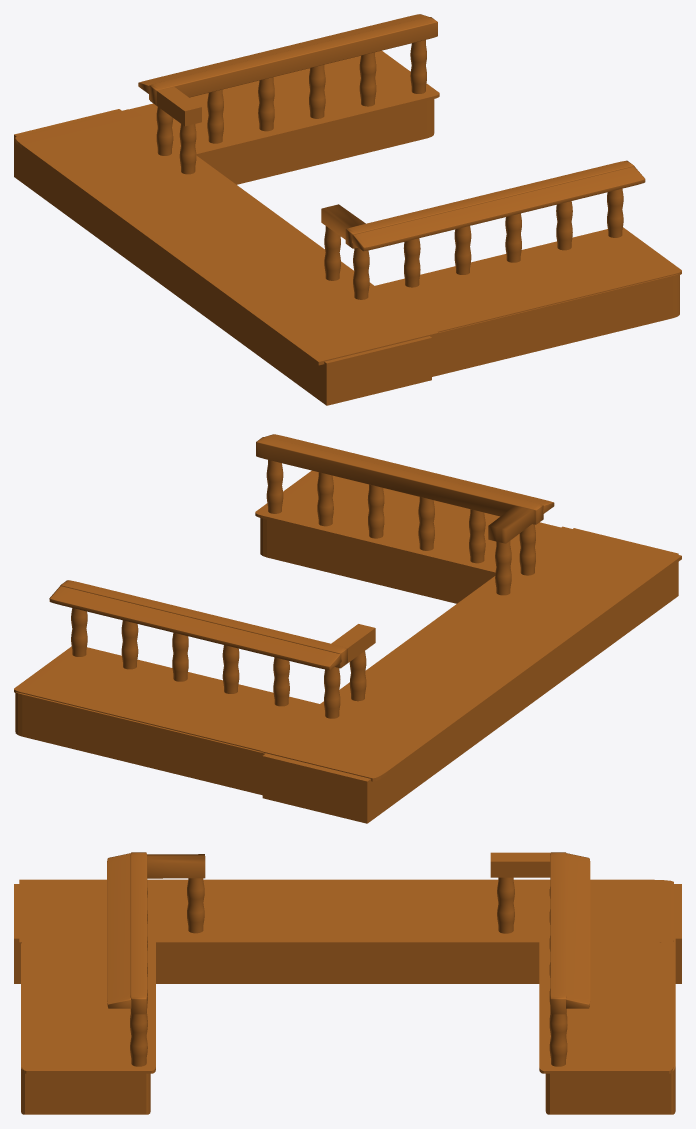
File: bancada.fbx
The picture shows the model from 3 angles, top to bottom: view 1: azimuth 30°, elevation 25°; view 2: azimuth 150°, elevation 25°; view 3: azimuth 270°, elevation 25°; orthographic projection. The views are drawn at different scales.
Visible parts, largest first — view 1: Cylinder.001; view 2: Cylinder.001; view 3: Cylinder.001.
Boxes of the visible parts, left/top/right/bottom form: Cylinder.001: left=14, top=14, right=681, bottom=405; Cylinder.001: left=14, top=434, right=681, bottom=823; Cylinder.001: left=14, top=852, right=681, bottom=1114.
Size of the model in its own units: 588 by 171 by 864.
